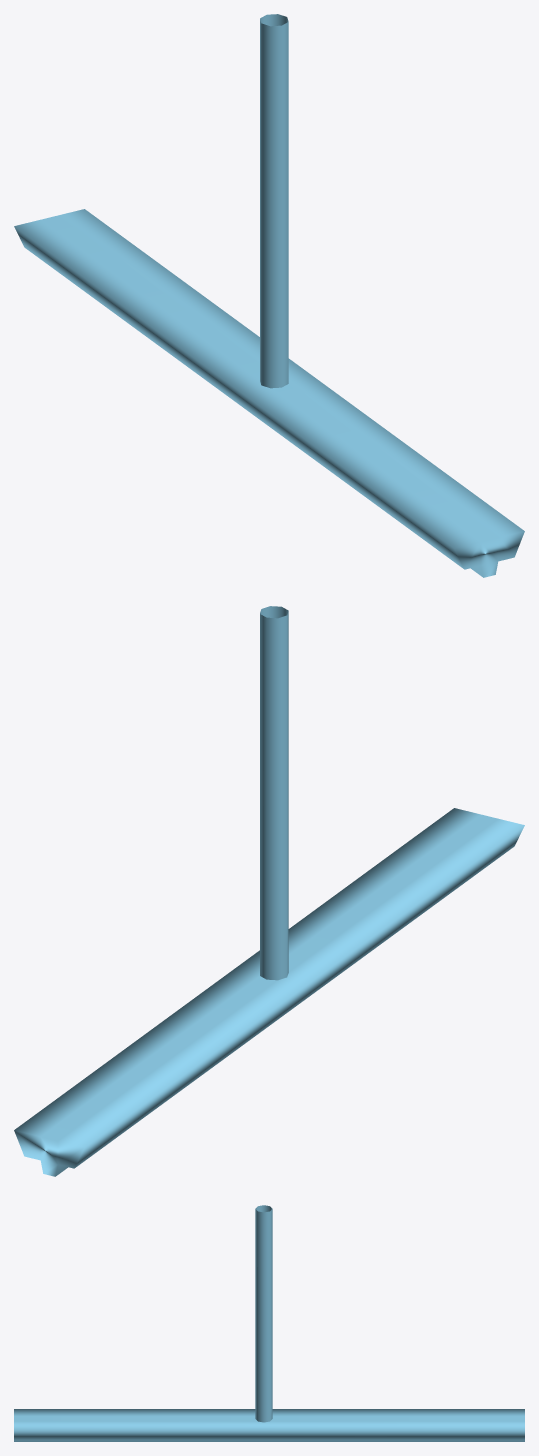
Rendered from SM_TargerRail.fbx.
3 views of the same model, one above another, from view 1: azimuth 30°, elevation 25°; view 2: azimuth 150°, elevation 25°; view 3: azimuth 270°, elevation 25° (orthographic). The views are drawn at different scales.
Parts seen in each view (by area): view 1: ShootingRange_Assets1_2; view 2: ShootingRange_Assets1_2; view 3: ShootingRange_Assets1_2.
Part boxes in pixels (bbox=[...]): ShootingRange_Assets1_2: bbox=[14, 14, 524, 577]; ShootingRange_Assets1_2: bbox=[14, 606, 524, 1176]; ShootingRange_Assets1_2: bbox=[14, 1205, 524, 1441].
Bounding box in the file's own units: 11.48 × 61.85 × 124.
